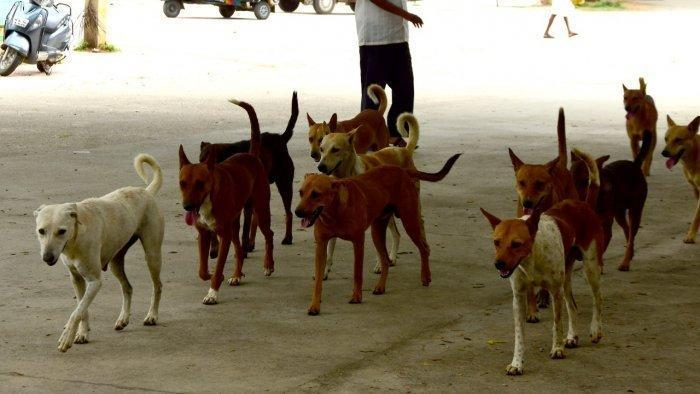normal_dogs: (31, 153, 172, 352), (478, 204, 616, 372), (294, 173, 430, 318), (179, 143, 279, 303), (199, 125, 297, 250), (572, 143, 654, 274), (312, 117, 440, 180), (508, 144, 584, 213), (662, 114, 700, 245), (300, 110, 397, 161), (613, 76, 661, 174)
